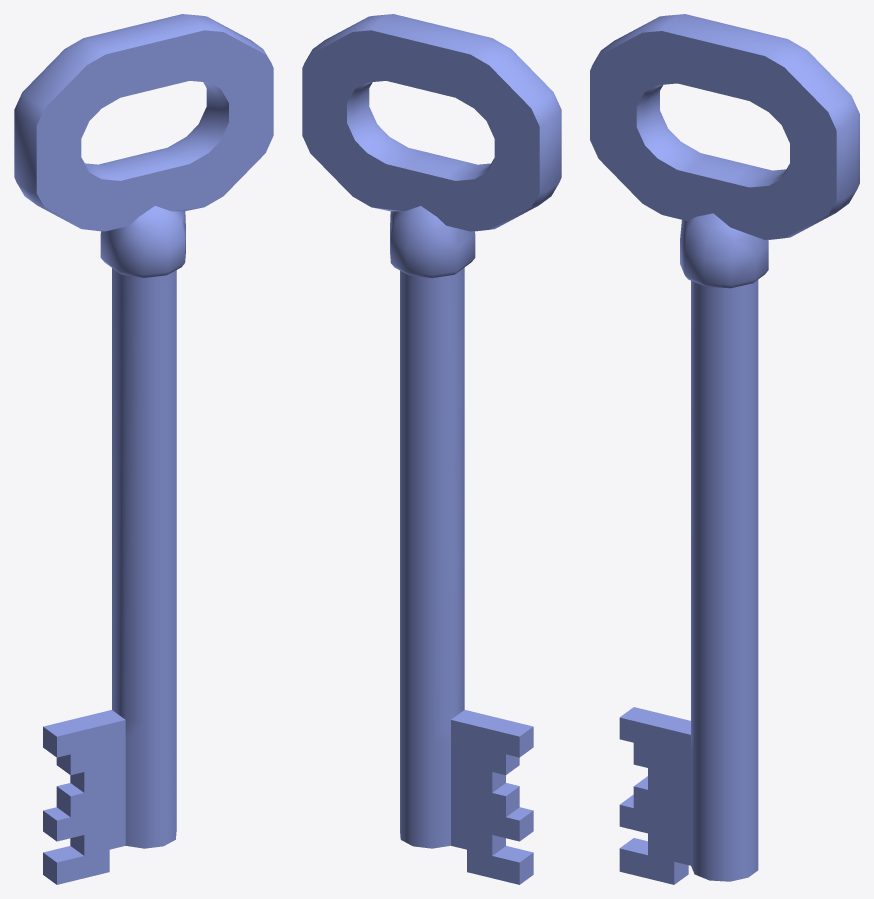
Rendered from Keys_37.FBX.
3 renders of one model, left to right at view 1: azimuth 30°, elevation 25°; view 2: azimuth 150°, elevation 25°; view 3: azimuth 330°, elevation 25°, orthographic. The views are drawn at different scales.
Parts seen in each view (by area): view 1: Keys_37; view 2: Keys_37; view 3: Keys_37.
Part boxes in pixels (x1=…): Keys_37: x1=14, y1=14, x2=273, y2=884; Keys_37: x1=302, y1=14, x2=561, y2=884; Keys_37: x1=590, y1=14, x2=859, y2=884.
Bounding box in the file's own units: 1.07 × 3.47 × 0.3408.
